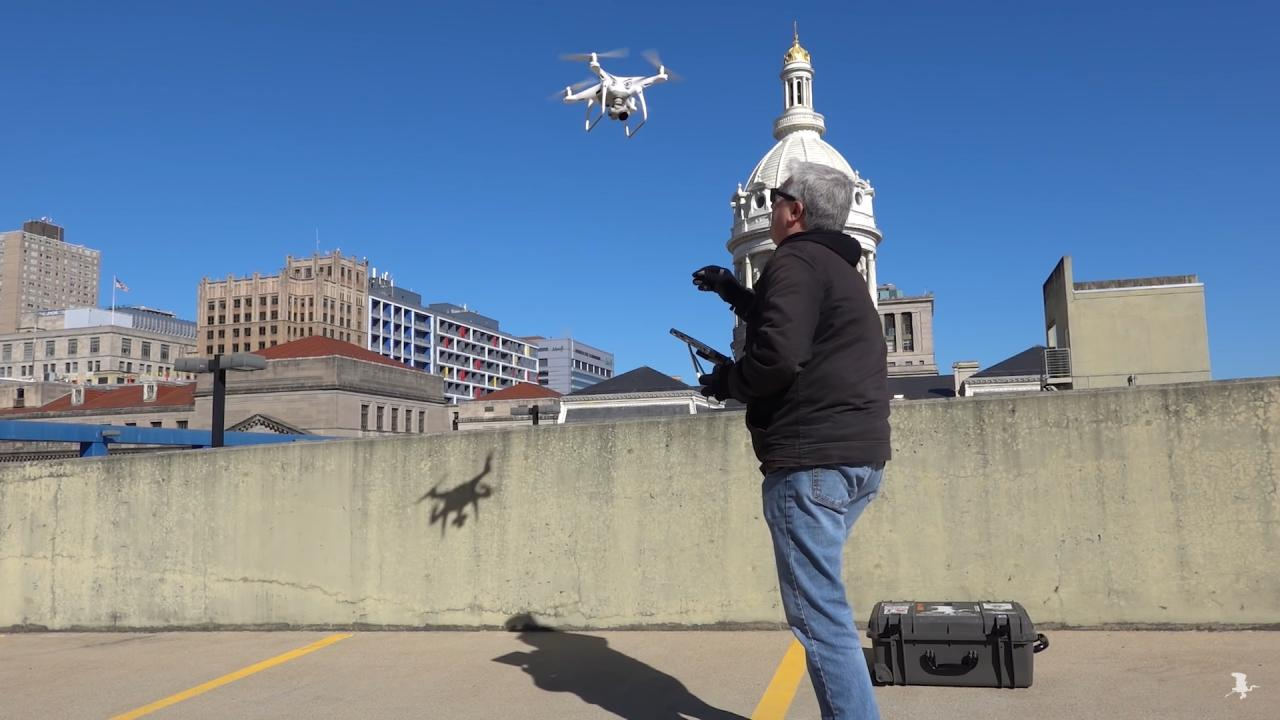Drone: (535, 38, 694, 150)
